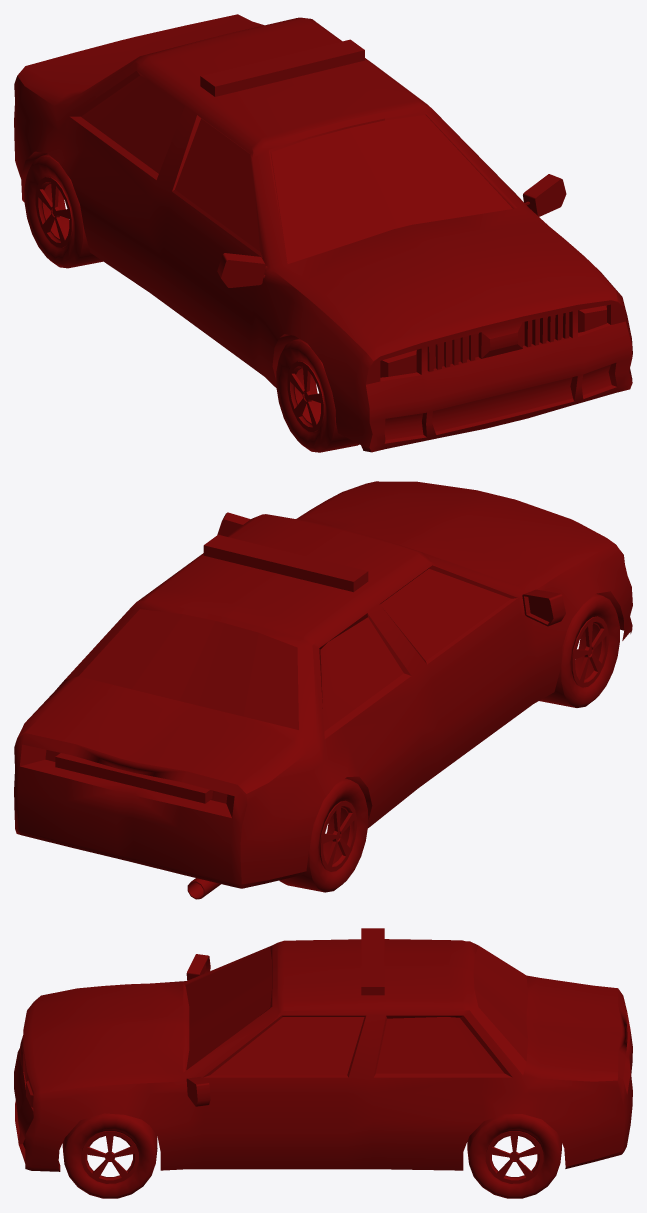
File: car.fbx
The picture shows the model from 3 angles, top to bottom: view 1: azimuth 30°, elevation 25°; view 2: azimuth 150°, elevation 25°; view 3: azimuth 270°, elevation 25°; orthographic projection. The views are drawn at different scales.
Visible parts, largest first — view 1: Body, Back_Wheel, Front_Wheel; view 2: Body, Back_Wheel, Front_Wheel; view 3: Body, Front_Wheel, Back_Wheel.
Boxes of the visible parts, <box> form: Body: <box>14,14,632,452</box>; Back_Wheel: <box>24,154,102,268</box>; Front_Wheel: <box>276,338,359,452</box>; Body: <box>14,481,632,899</box>; Back_Wheel: <box>279,778,368,892</box>; Front_Wheel: <box>539,594,619,707</box>; Body: <box>14,928,632,1171</box>; Front_Wheel: <box>62,1113,157,1198</box>; Back_Wheel: <box>467,1114,561,1198</box>.
Size of the model in its own units: 6.22 by 4.01 by 12.02.
